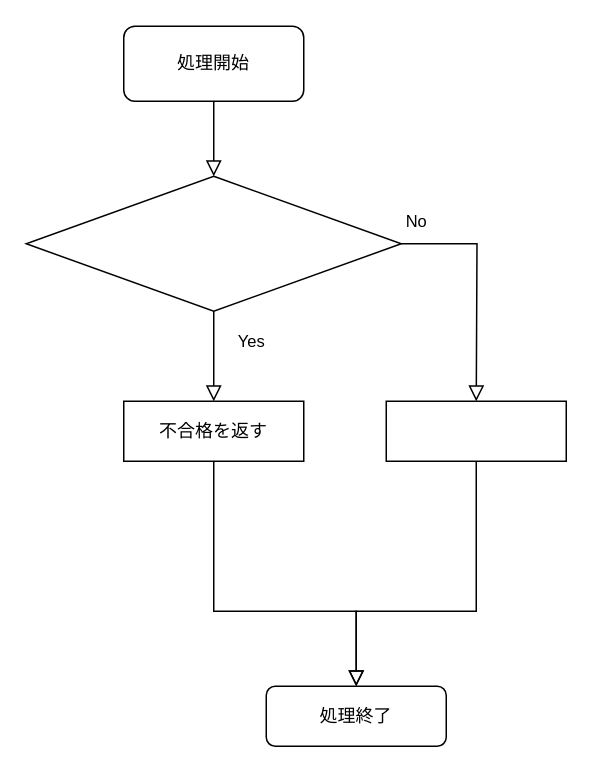
Image size: 593x773. Some labels were removed from this diagram. The shapes that lost their labels are listed below. From the top down, each one's centre as x and y in pixels, then its label:
At point (213, 243): "60点より少ない科目が存在する".
At point (475, 430): "合格を返す".
